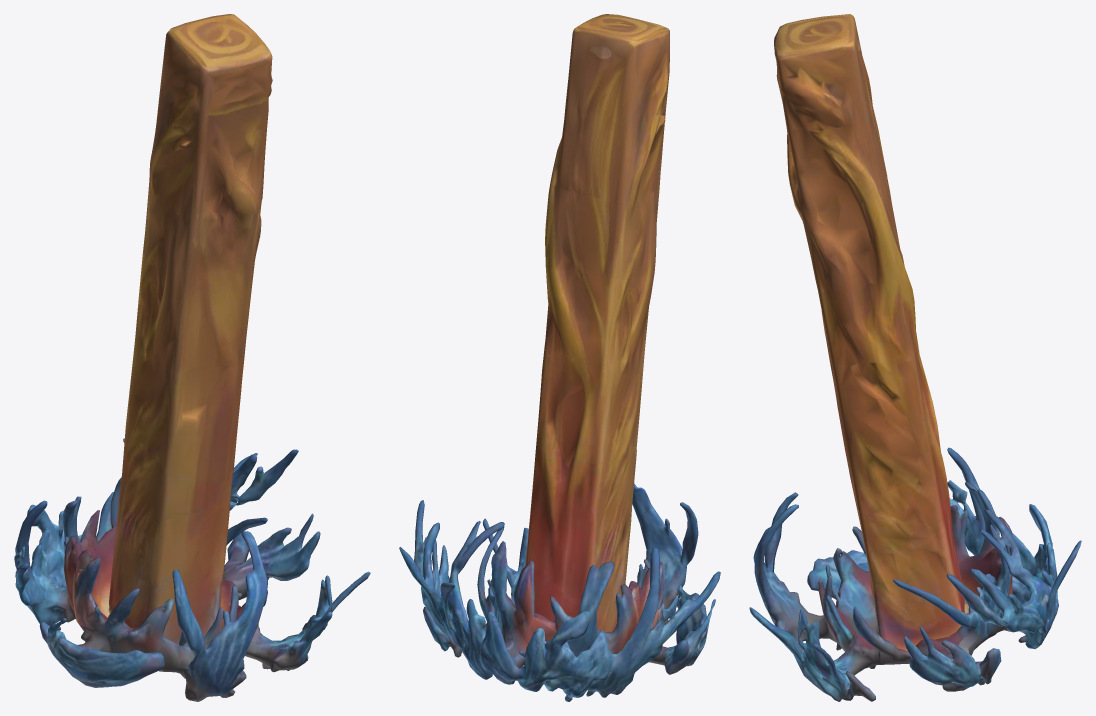
File: fx_power_conduit.glb
3 renders of one model, left to right at view 1: azimuth 30°, elevation 25°; view 2: azimuth 150°, elevation 25°; view 3: azimuth 270°, elevation 25°, orthographic. The views are drawn at different scales.
Visible parts, largest first — view 1: tripo_node_9146ec46-7d01-4903-80f3-686f05d27163; view 2: tripo_node_9146ec46-7d01-4903-80f3-686f05d27163; view 3: tripo_node_9146ec46-7d01-4903-80f3-686f05d27163.
Boxes of the visible parts, box(x1,y1,x2,y2) form: tripo_node_9146ec46-7d01-4903-80f3-686f05d27163: box(14, 14, 370, 701); tripo_node_9146ec46-7d01-4903-80f3-686f05d27163: box(399, 14, 720, 701); tripo_node_9146ec46-7d01-4903-80f3-686f05d27163: box(749, 14, 1081, 701).
Size of the model in its own units: 0.4494 by 0.9453 by 0.4495.
Materials: 1 (1 with a texture image).
